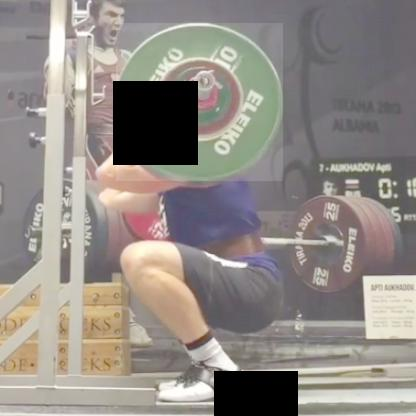barbell: (117, 24, 284, 182)
